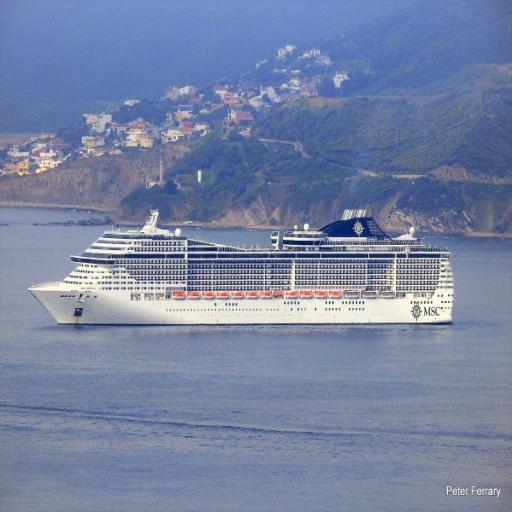cruises: (29, 202, 463, 332)
